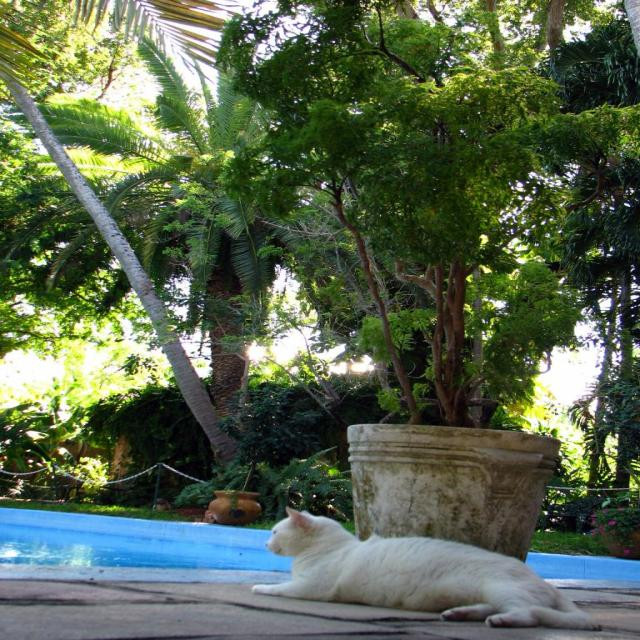Cat: (251, 506, 607, 630)
